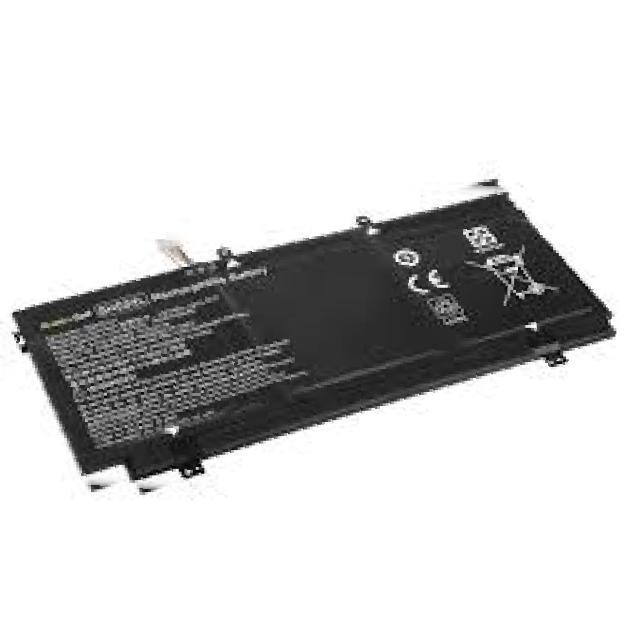Battery: (16, 146, 640, 501)
